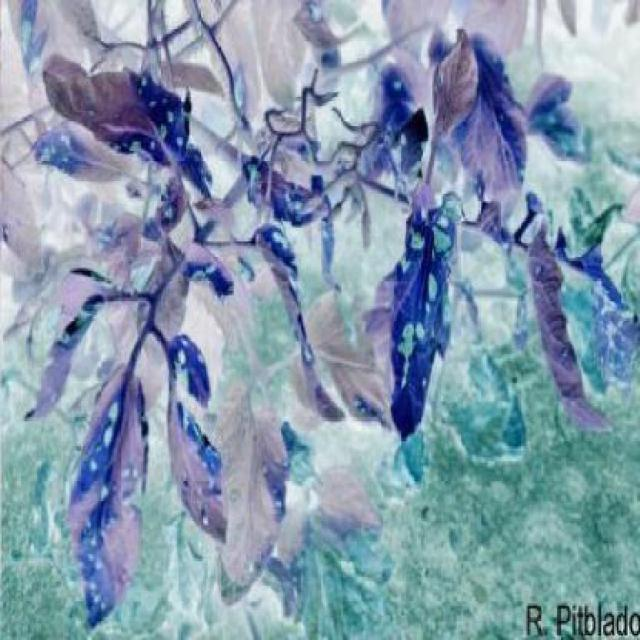Tomato Early blight leaf: (46, 49, 228, 214), (78, 358, 158, 604), (151, 336, 234, 534), (394, 194, 454, 431), (258, 230, 340, 392)
